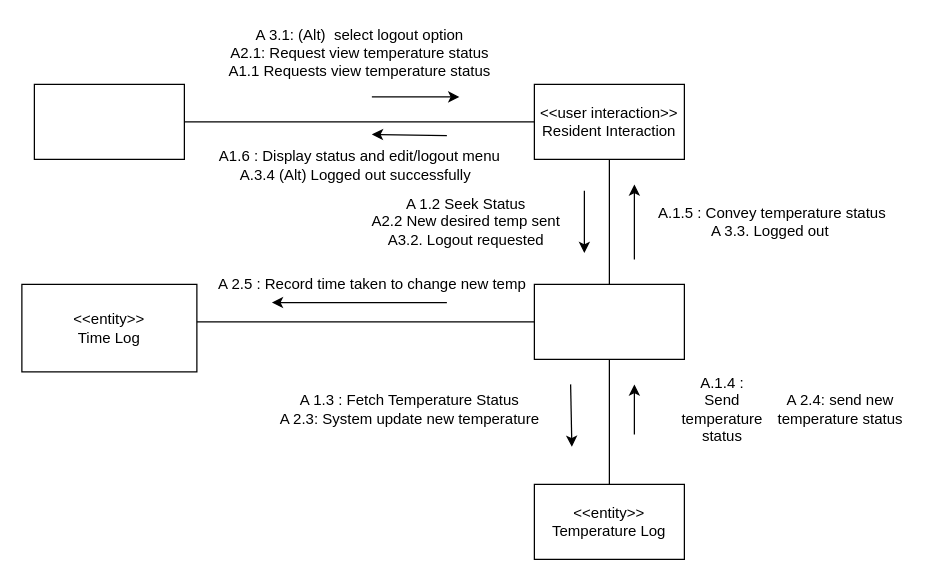
Image size: 931x581. Some labels were removed from this diagram. Here are the shapes that lost their labels. From the top down, the centre of each, then its label:
At point (108, 121): "<<external user>> Resident".
At point (608, 321): "<<state dependent control>> Smart Home System".
